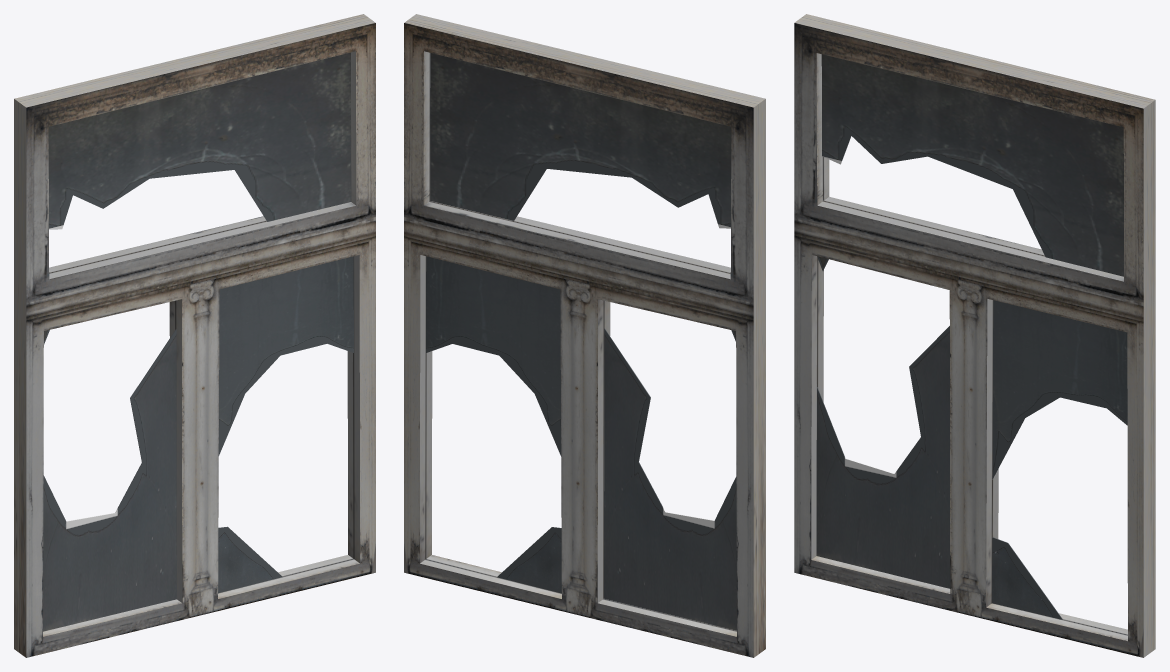
The model's file is Windows_10_2.FBX.
The picture shows the model from 3 angles, left to right: view 1: azimuth 30°, elevation 25°; view 2: azimuth 150°, elevation 25°; view 3: azimuth 330°, elevation 25°; orthographic projection.
Parts seen in each view (by area): view 1: Windows_10_2, Windows_10_2glass (×4); view 2: Windows_10_2, Windows_10_2glass (×4); view 3: Windows_10_2, Windows_10_2glass (×4).
Part boxes in pixels (bbox=[...]): Windows_10_2: bbox=[14, 14, 375, 657]; Windows_10_2glass (×4): bbox=[43, 52, 353, 631]; Windows_10_2: bbox=[404, 14, 765, 657]; Windows_10_2glass (×4): bbox=[426, 53, 736, 630]; Windows_10_2: bbox=[794, 14, 1155, 657]; Windows_10_2glass (×4): bbox=[816, 54, 1127, 619].
Bounding box in the file's own units: 96.13 × 5.76 × 145.
Materials: 2 (2 with a texture image).
